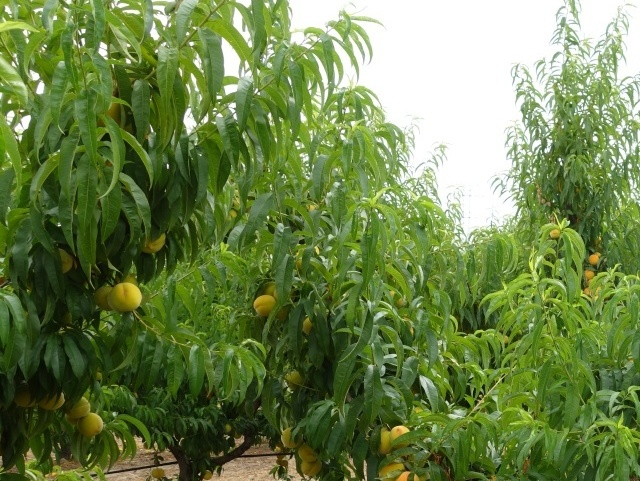peach: (104, 280, 147, 315), (135, 226, 171, 255), (369, 421, 397, 456), (75, 411, 107, 441), (88, 281, 118, 311), (249, 293, 280, 319), (276, 425, 307, 451), (386, 424, 415, 451), (63, 395, 93, 421), (293, 439, 321, 466), (38, 389, 66, 414), (295, 457, 322, 480)
